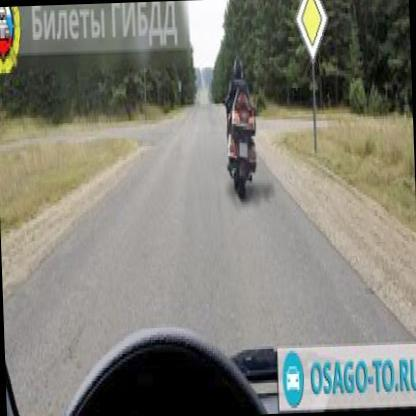obstructed_road_sign: (297, 0, 327, 60)
